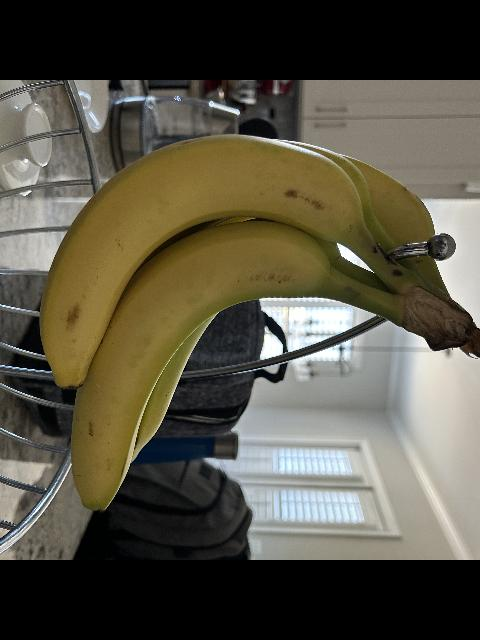Bananas: (44, 144, 392, 512)
